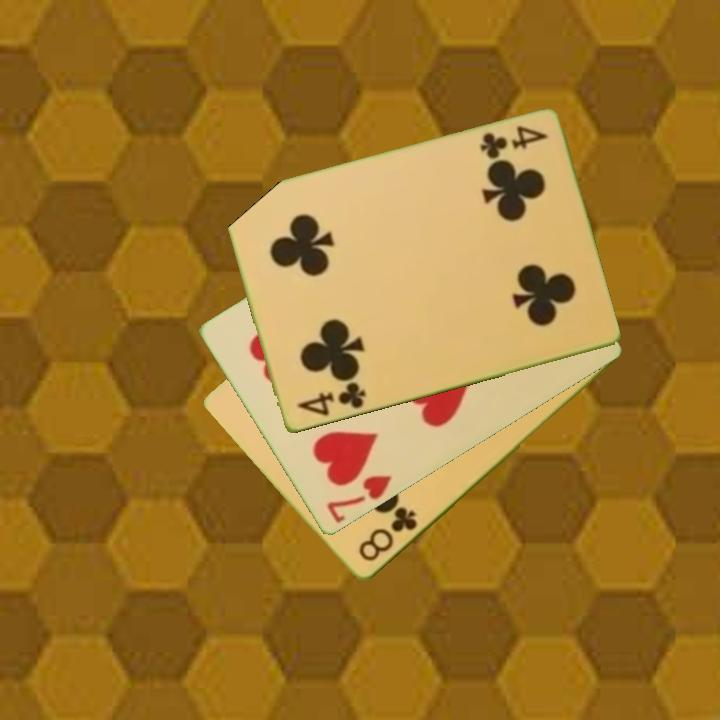4c: (293, 379, 368, 420), (476, 123, 550, 163)
7h: (323, 472, 395, 527)
8c: (355, 503, 421, 565)
